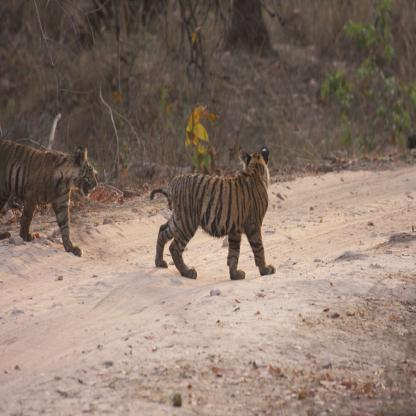tiger: (75, 152, 101, 202), (237, 145, 270, 174)
